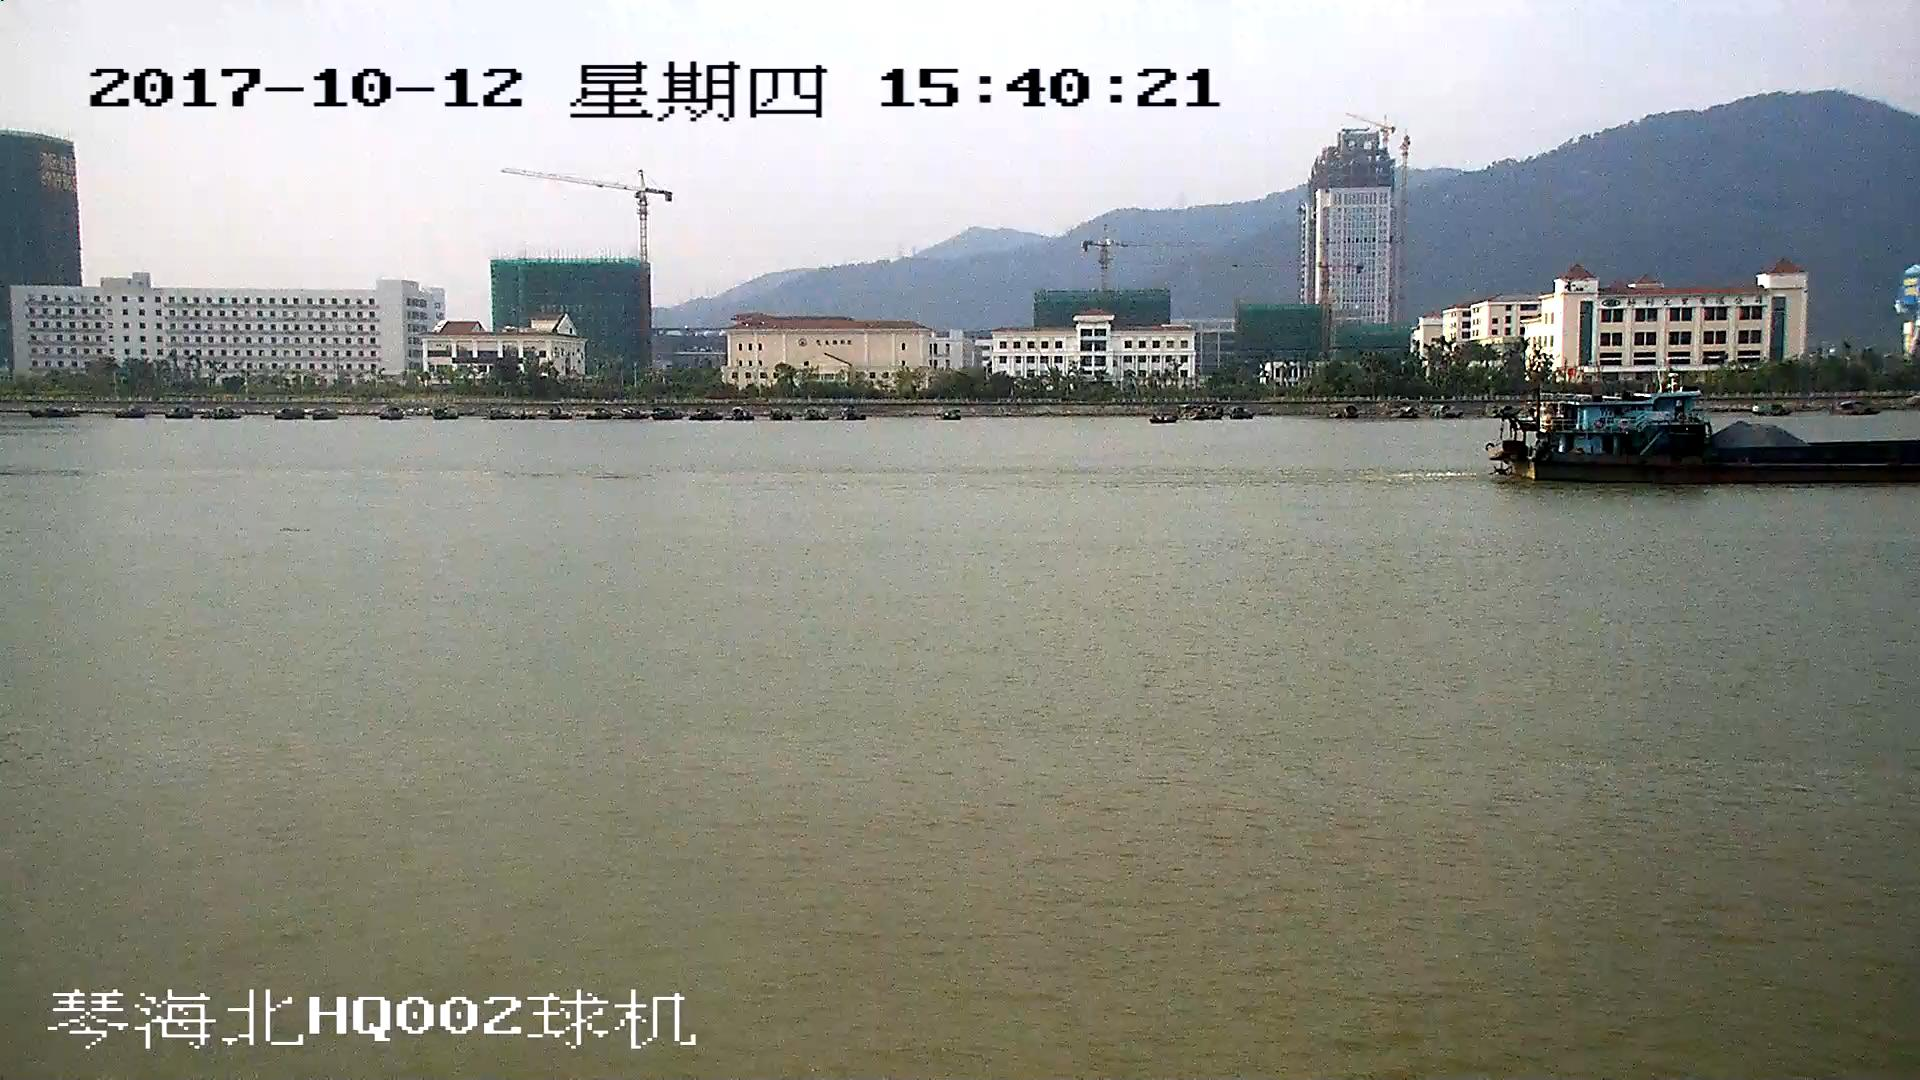ore carrier: (1491, 392, 1920, 485)
